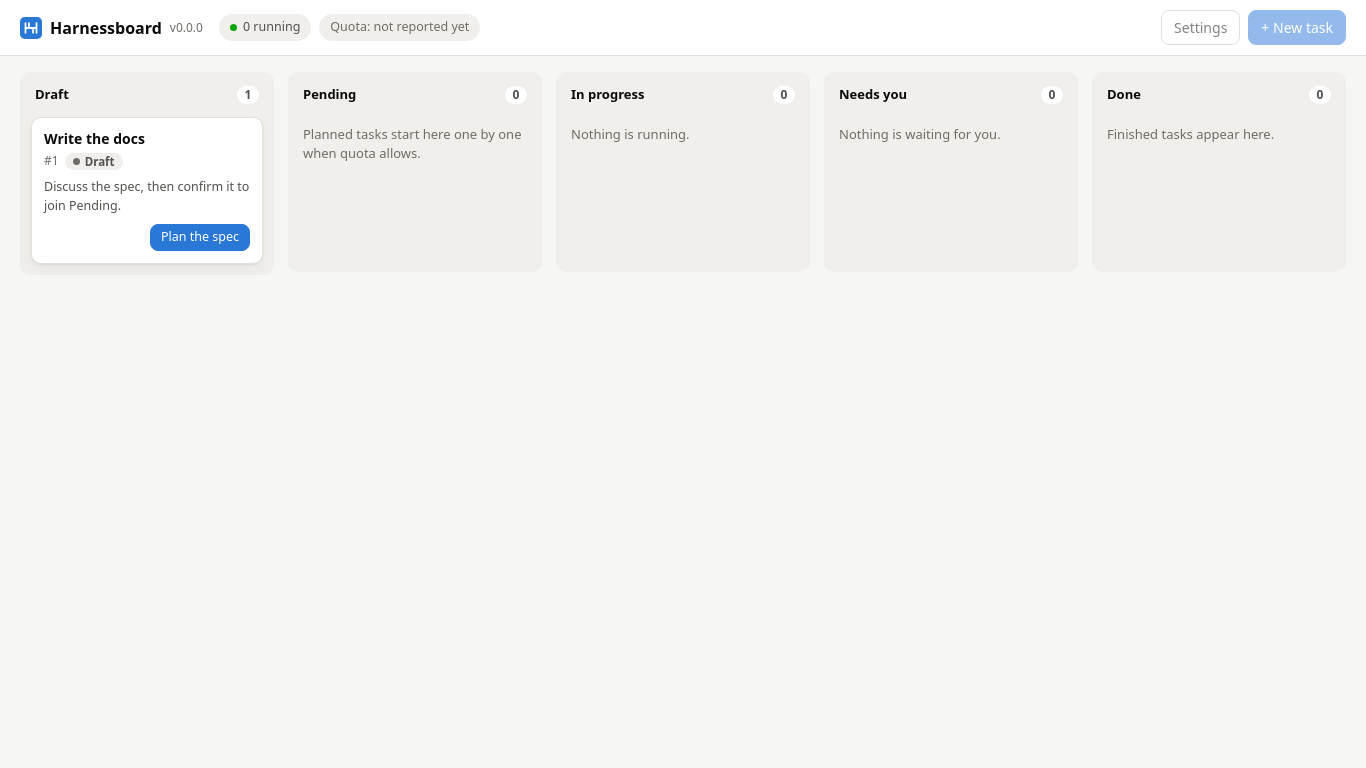
planning a draft again from the desktop app › keeps the send button disabled while a draft with a spec file has no change typed
The width and height of the screenshot is (1366, 768).
Click the button "Plan the spec" at (200, 237), box [150,224,250,251]
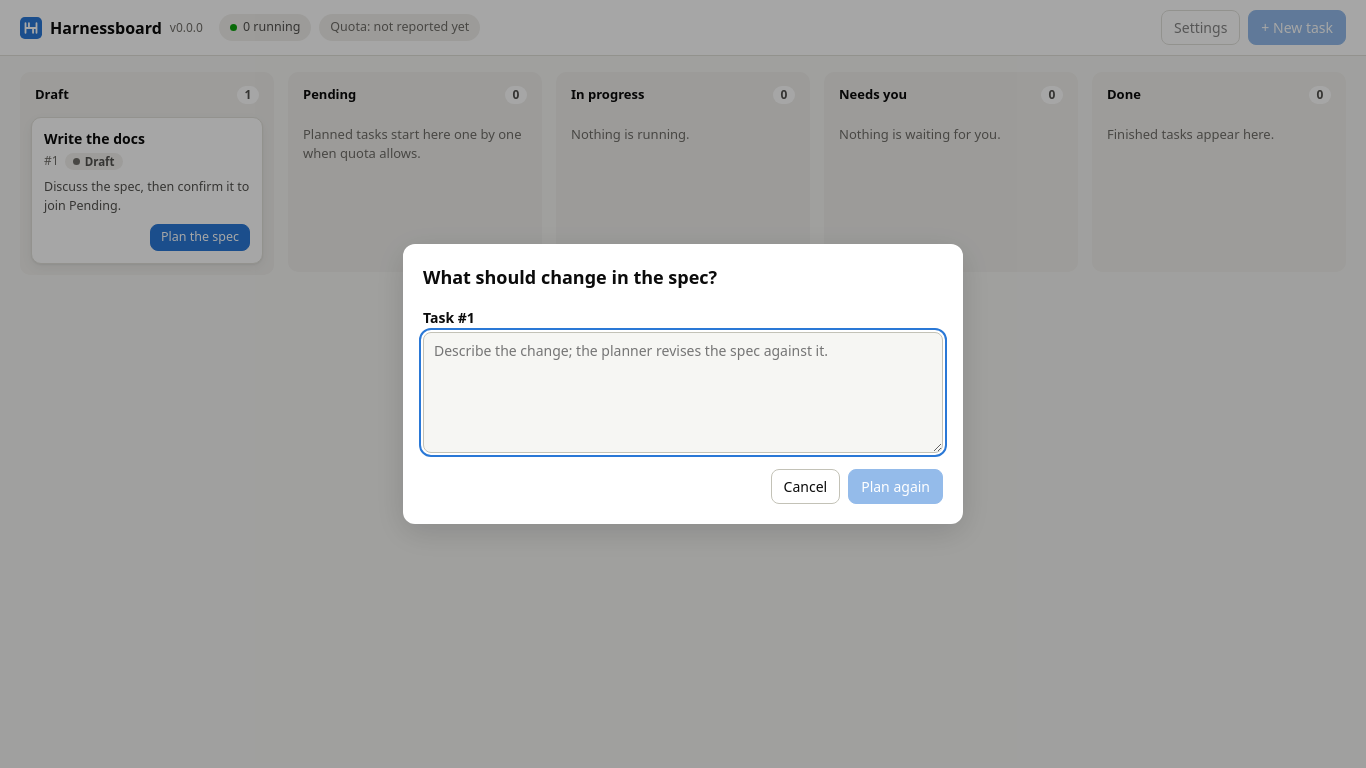
expect the button "Plan again" is disabled: met, box [848,469,943,504]
